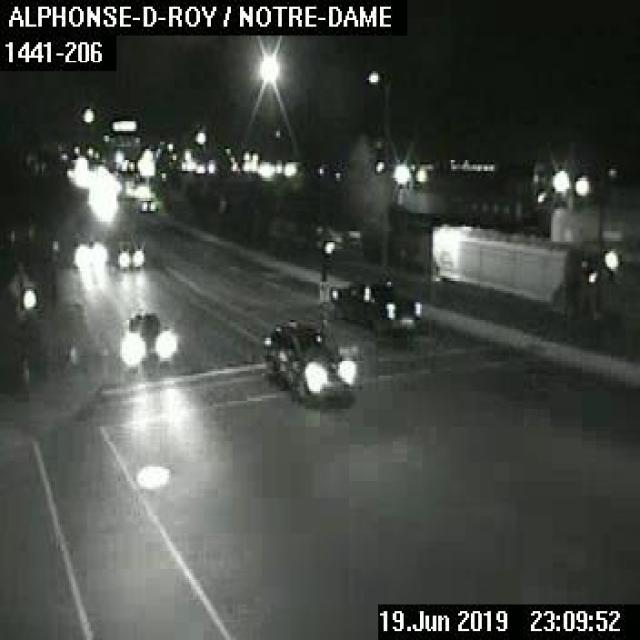vehicle: (260, 322, 355, 404), (329, 276, 422, 334), (120, 311, 173, 367), (111, 238, 145, 269), (136, 198, 158, 211)
